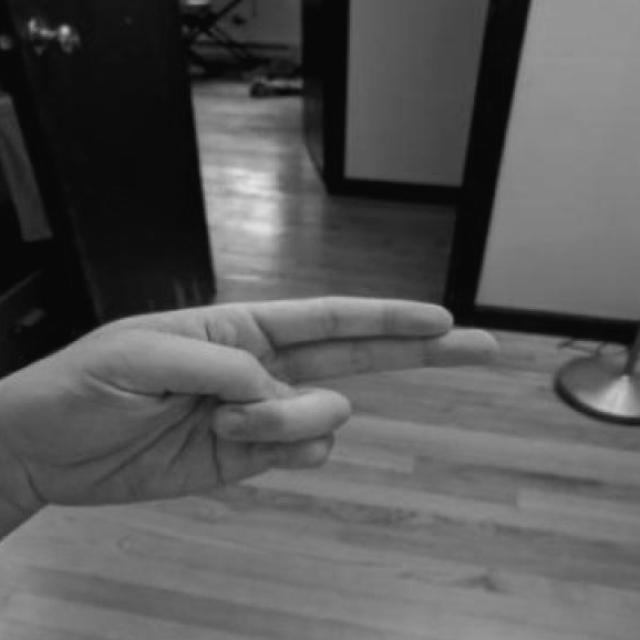H: (0, 290, 512, 515)
